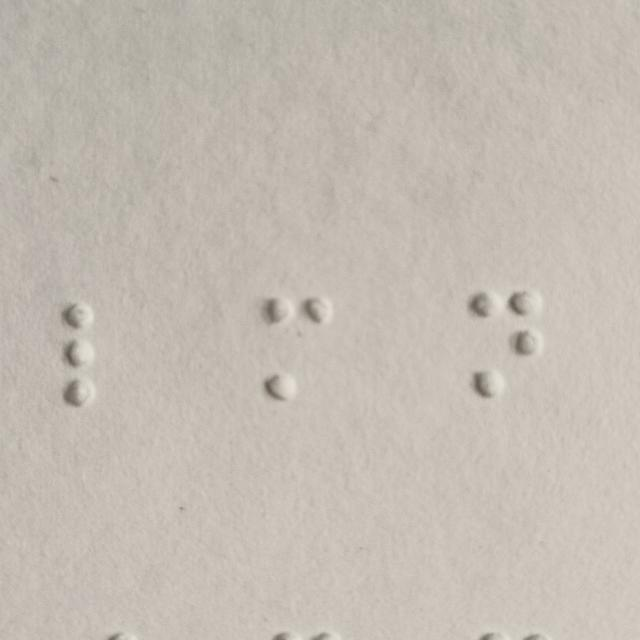l: (65, 303, 134, 409)
m: (264, 296, 333, 403)
n: (470, 291, 539, 397)
